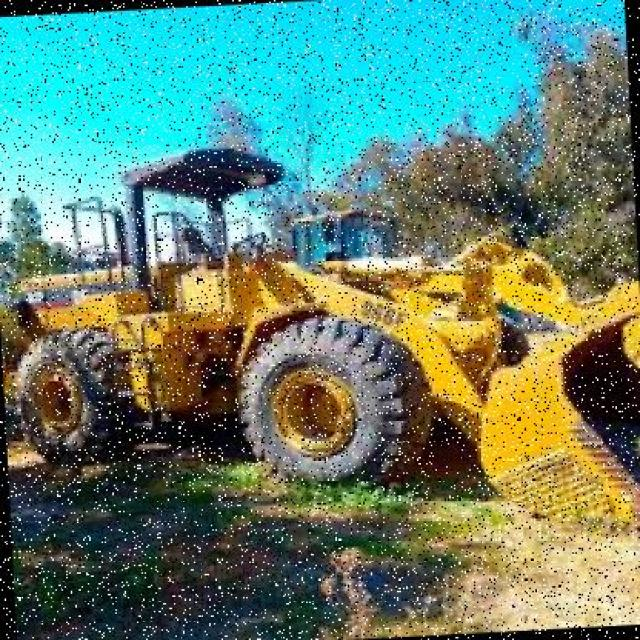buldozerpayloadergrader: (4, 123, 640, 563)
